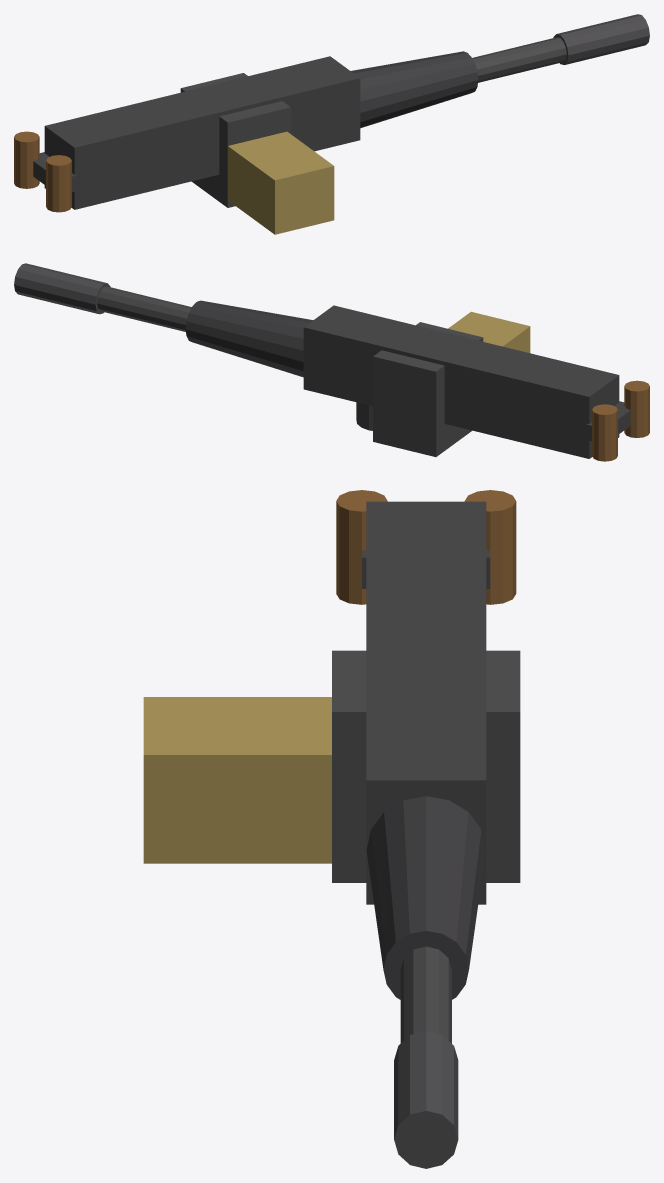
The model's file is ce_kpv_gun.obj.
The picture shows the model from 3 angles, top to bottom: view 1: azimuth 30°, elevation 25°; view 2: azimuth 150°, elevation 25°; view 3: azimuth 270°, elevation 25°; orthographic projection. The views are drawn at different scales.
Visible parts, largest first — view 1: ce_kpv_gun_receiver, ce_kpv_gun_ammo, ce_kpv_gun_jacket, ce_kpv_gun_cradle, ce_kpv_gun_muzzle, ce_kpv_gun_barrel, ce_kpv_gun_knob-1, ce_kpv_gun_knob1, ce_kpv_gun_grip_bar; view 2: ce_kpv_gun_receiver, ce_kpv_gun_cradle, ce_kpv_gun_jacket, ce_kpv_gun_muzzle, ce_kpv_gun_barrel, ce_kpv_gun_ammo, ce_kpv_gun_knob1, ce_kpv_gun_knob-1, ce_kpv_gun_grip_bar, ce_kpv_gun_pintle; view 3: ce_kpv_gun_receiver, ce_kpv_gun_ammo, ce_kpv_gun_jacket, ce_kpv_gun_cradle, ce_kpv_gun_muzzle, ce_kpv_gun_barrel, ce_kpv_gun_knob1, ce_kpv_gun_knob-1.
Boxes of the visible parts, x1=… form: ce_kpv_gun_receiver: x1=44, y1=56, x2=360, y2=209; ce_kpv_gun_ammo: x1=227, y1=131, x2=334, y2=234; ce_kpv_gun_jacket: x1=351, y1=51, x2=478, y2=128; ce_kpv_gun_cradle: x1=180, y1=73, x2=290, y2=207; ce_kpv_gun_muzzle: x1=553, y1=14, x2=649, y2=64; ce_kpv_gun_barrel: x1=472, y1=37, x2=566, y2=82; ce_kpv_gun_knob-1: x1=46, y1=155, x2=71, y2=212; ce_kpv_gun_knob1: x1=14, y1=131, x2=39, y2=188; ce_kpv_gun_grip_bar: x1=33, y1=152, x2=77, y2=191; ce_kpv_gun_receiver: x1=303, y1=305, x2=619, y2=458; ce_kpv_gun_cradle: x1=373, y1=322, x2=483, y2=456; ce_kpv_gun_jacket: x1=185, y1=300, x2=312, y2=377; ce_kpv_gun_muzzle: x1=14, y1=263, x2=110, y2=314; ce_kpv_gun_barrel: x1=97, y1=286, x2=191, y2=331; ce_kpv_gun_ammo: x1=448, y1=311, x2=530, y2=352; ce_kpv_gun_knob1: x1=592, y1=404, x2=617, y2=461; ce_kpv_gun_knob-1: x1=624, y1=380, x2=649, y2=437; ce_kpv_gun_grip_bar: x1=586, y1=401, x2=630, y2=441; ce_kpv_gun_pintle: x1=356, y1=402, x2=372, y2=430; ce_kpv_gun_receiver: x1=366, y1=501, x2=486, y2=904; ce_kpv_gun_ammo: x1=143, y1=697, x2=331, y2=863; ce_kpv_gun_jacket: x1=366, y1=796, x2=485, y2=999; ce_kpv_gun_cradle: x1=332, y1=650, x2=520, y2=882; ce_kpv_gun_muzzle: x1=394, y1=1031, x2=458, y2=1168; ce_kpv_gun_barrel: x1=400, y1=946, x2=451, y2=1043; ce_kpv_gun_knob1: x1=464, y1=490, x2=516, y2=604; ce_kpv_gun_knob-1: x1=336, y1=490, x2=387, y2=604.
Bounding box in the file's own units: 1.65 × 0.23 × 0.44.
